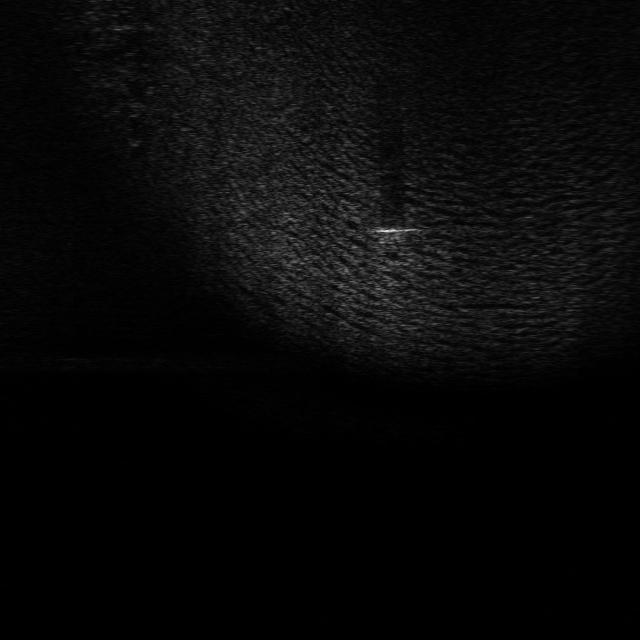cube: (376, 223, 410, 246)
